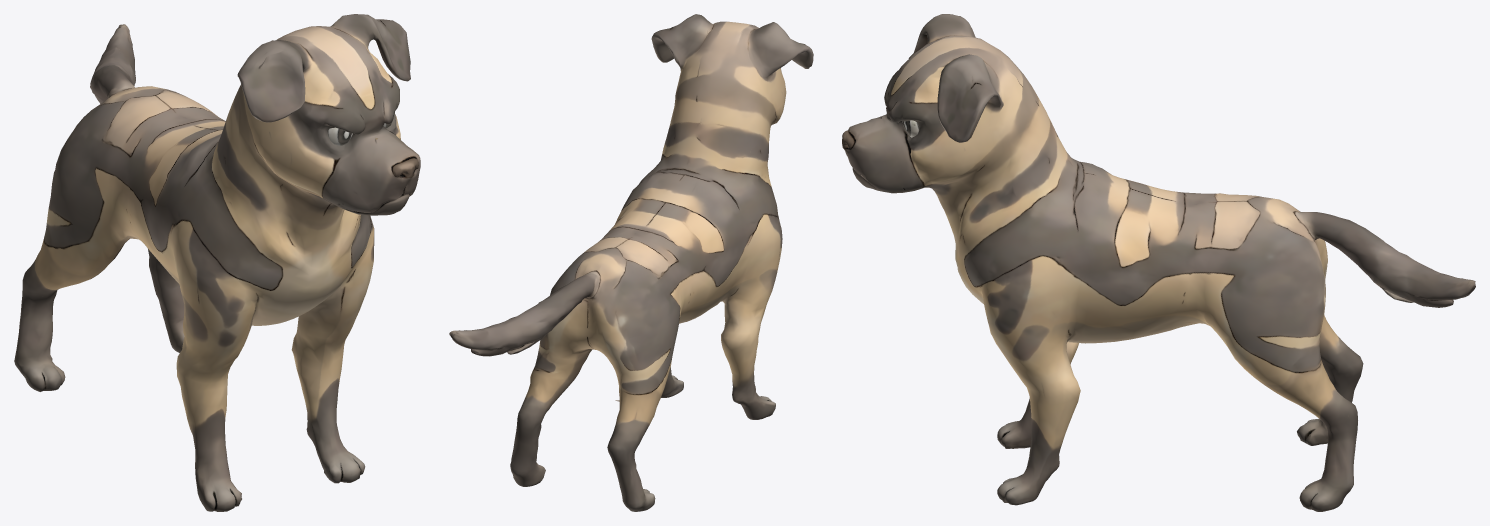
Rendered from Pok60. Presin.glb.
3 views of the same model, side by side, from view 1: azimuth 30°, elevation 25°; view 2: azimuth 150°, elevation 25°; view 3: azimuth 270°, elevation 25° (orthographic). The views are drawn at different scales.
Parts seen in each view (by area): view 1: geometry_0; view 2: geometry_0; view 3: geometry_0.
Boxes of the visible parts, <box> form: geometry_0: <box>14,14,420,511</box>; geometry_0: <box>449,14,813,511</box>; geometry_0: <box>842,14,1475,511</box>.
Bounding box in the file's own units: 0.3042 × 0.7319 × 0.957.
1 material, 1 textured.
